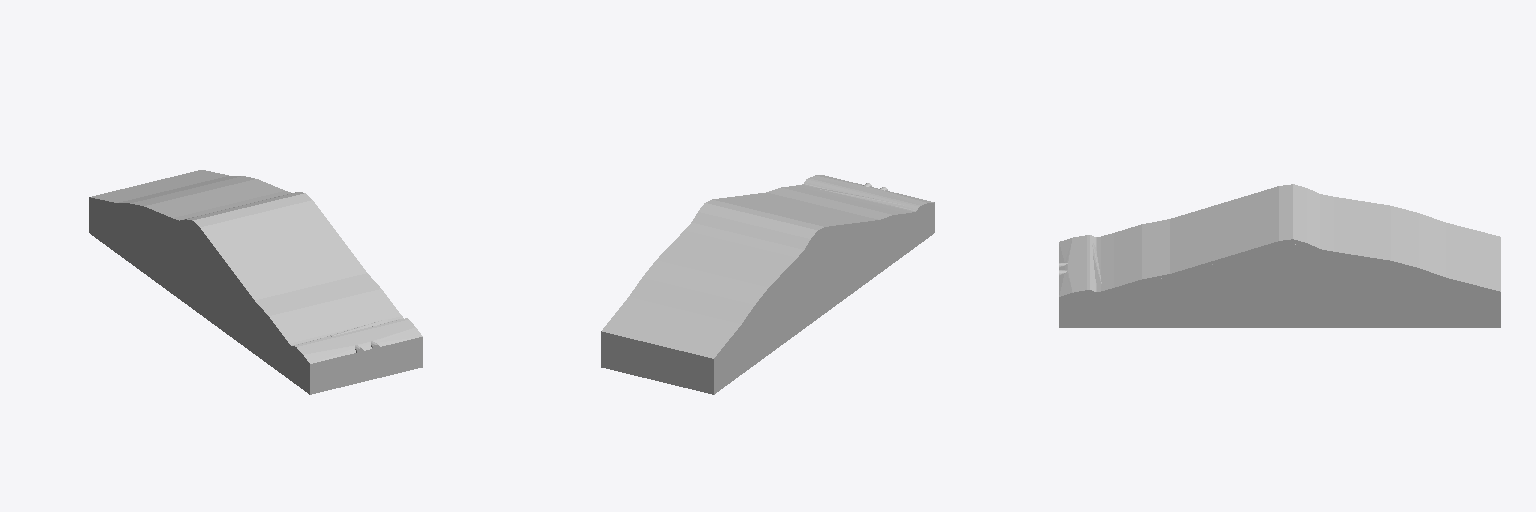
The model's file is 618_all.obj.
3 views of the same model, side by side, from view 1: azimuth 30°, elevation 25°; view 2: azimuth 150°, elevation 25°; view 3: azimuth 270°, elevation 25° (orthographic).
Visible parts, largest first — view 1: object 6, object 7, object 11, object 21; view 2: object 6, object 11, object 7, object 21, object 9; view 3: object 6, object 7, object 11, object 21.
Boxes of the visible parts, x1=… form: object 6: x1=89, y1=170, x2=422, y2=365; object 7: x1=95, y1=217, x2=422, y2=394; object 11: x1=89, y1=200, x2=422, y2=373; object 21: x1=140, y1=227, x2=422, y2=377; object 6: x1=601, y1=175, x2=934, y2=361; object 11: x1=601, y1=188, x2=934, y2=383; object 7: x1=720, y1=217, x2=934, y2=389; object 21: x1=766, y1=212, x2=934, y2=313; object 9: x1=601, y1=357, x2=726, y2=394; object 6: x1=1059, y1=184, x2=1500, y2=298; object 7: x1=1059, y1=282, x2=1488, y2=327; object 11: x1=1059, y1=243, x2=1500, y2=316; object 21: x1=1059, y1=279, x2=1398, y2=313.
Size of the model in its own units: 180 by 135 by 610.